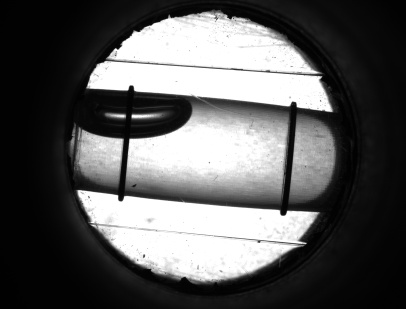line: (277, 119, 300, 196), (115, 145, 132, 181)
